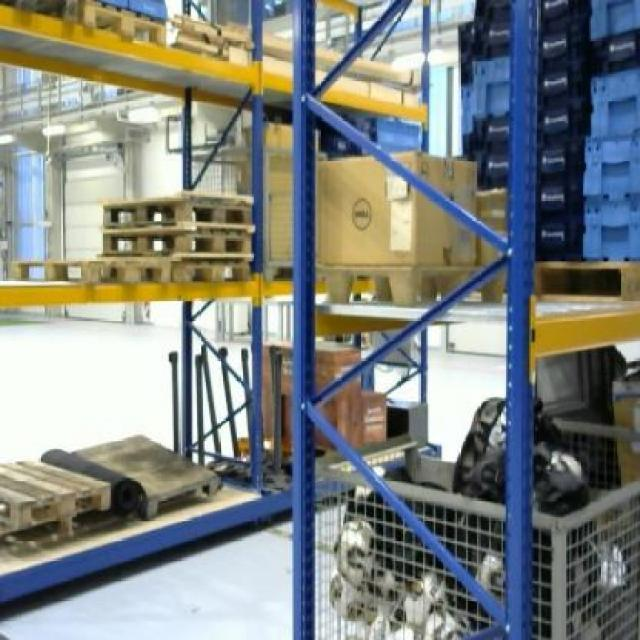box: (314, 151, 478, 264), (310, 347, 362, 396), (312, 398, 360, 446), (362, 394, 387, 442)
